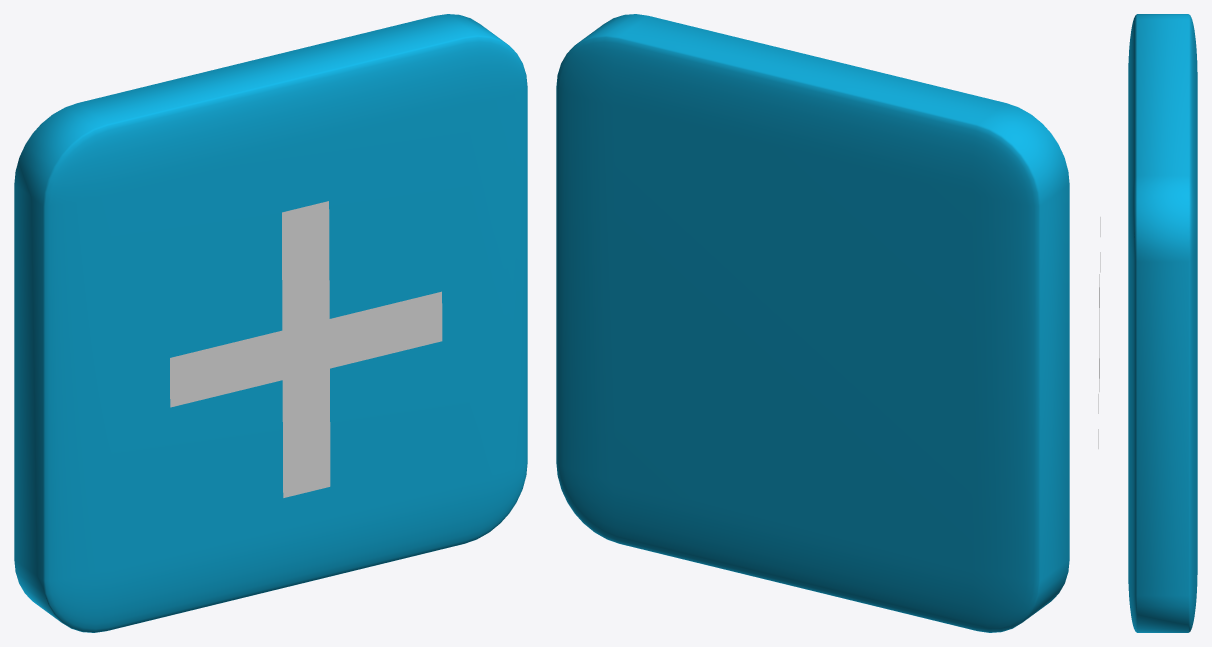
Rendered from operation_+.glb.
3 views of the same model, side by side, from view 1: azimuth 30°, elevation 25°; view 2: azimuth 150°, elevation 25°; view 3: azimuth 270°, elevation 25° (orthographic). The views are drawn at different scales.
Parts seen in each view (by area): view 1: Cube.006, Text; view 2: Cube.006; view 3: Cube.006, Text.
Boxes of the visible parts, x1,y1,x2,y2 form: Cube.006: (14,14,527,632); Text: (170,201,442,497); Cube.006: (556,14,1069,632); Cube.006: (1128,14,1197,632); Text: (1098,217,1100,448).
Bounding box in the file's own units: 0.8404 × 0.8404 × 0.1674.
